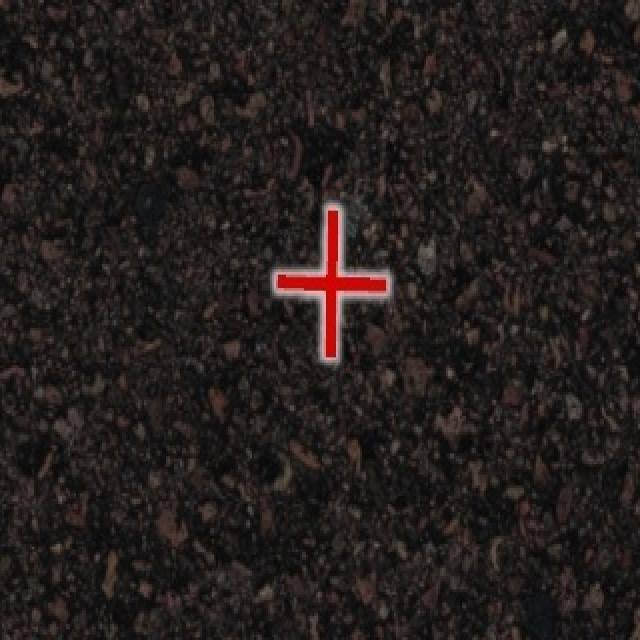x_marker: (275, 207, 387, 356)
